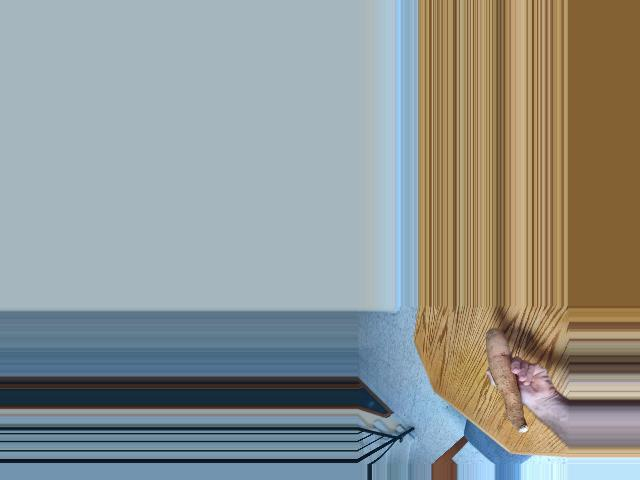sweet_potato: (480, 332, 538, 431)
